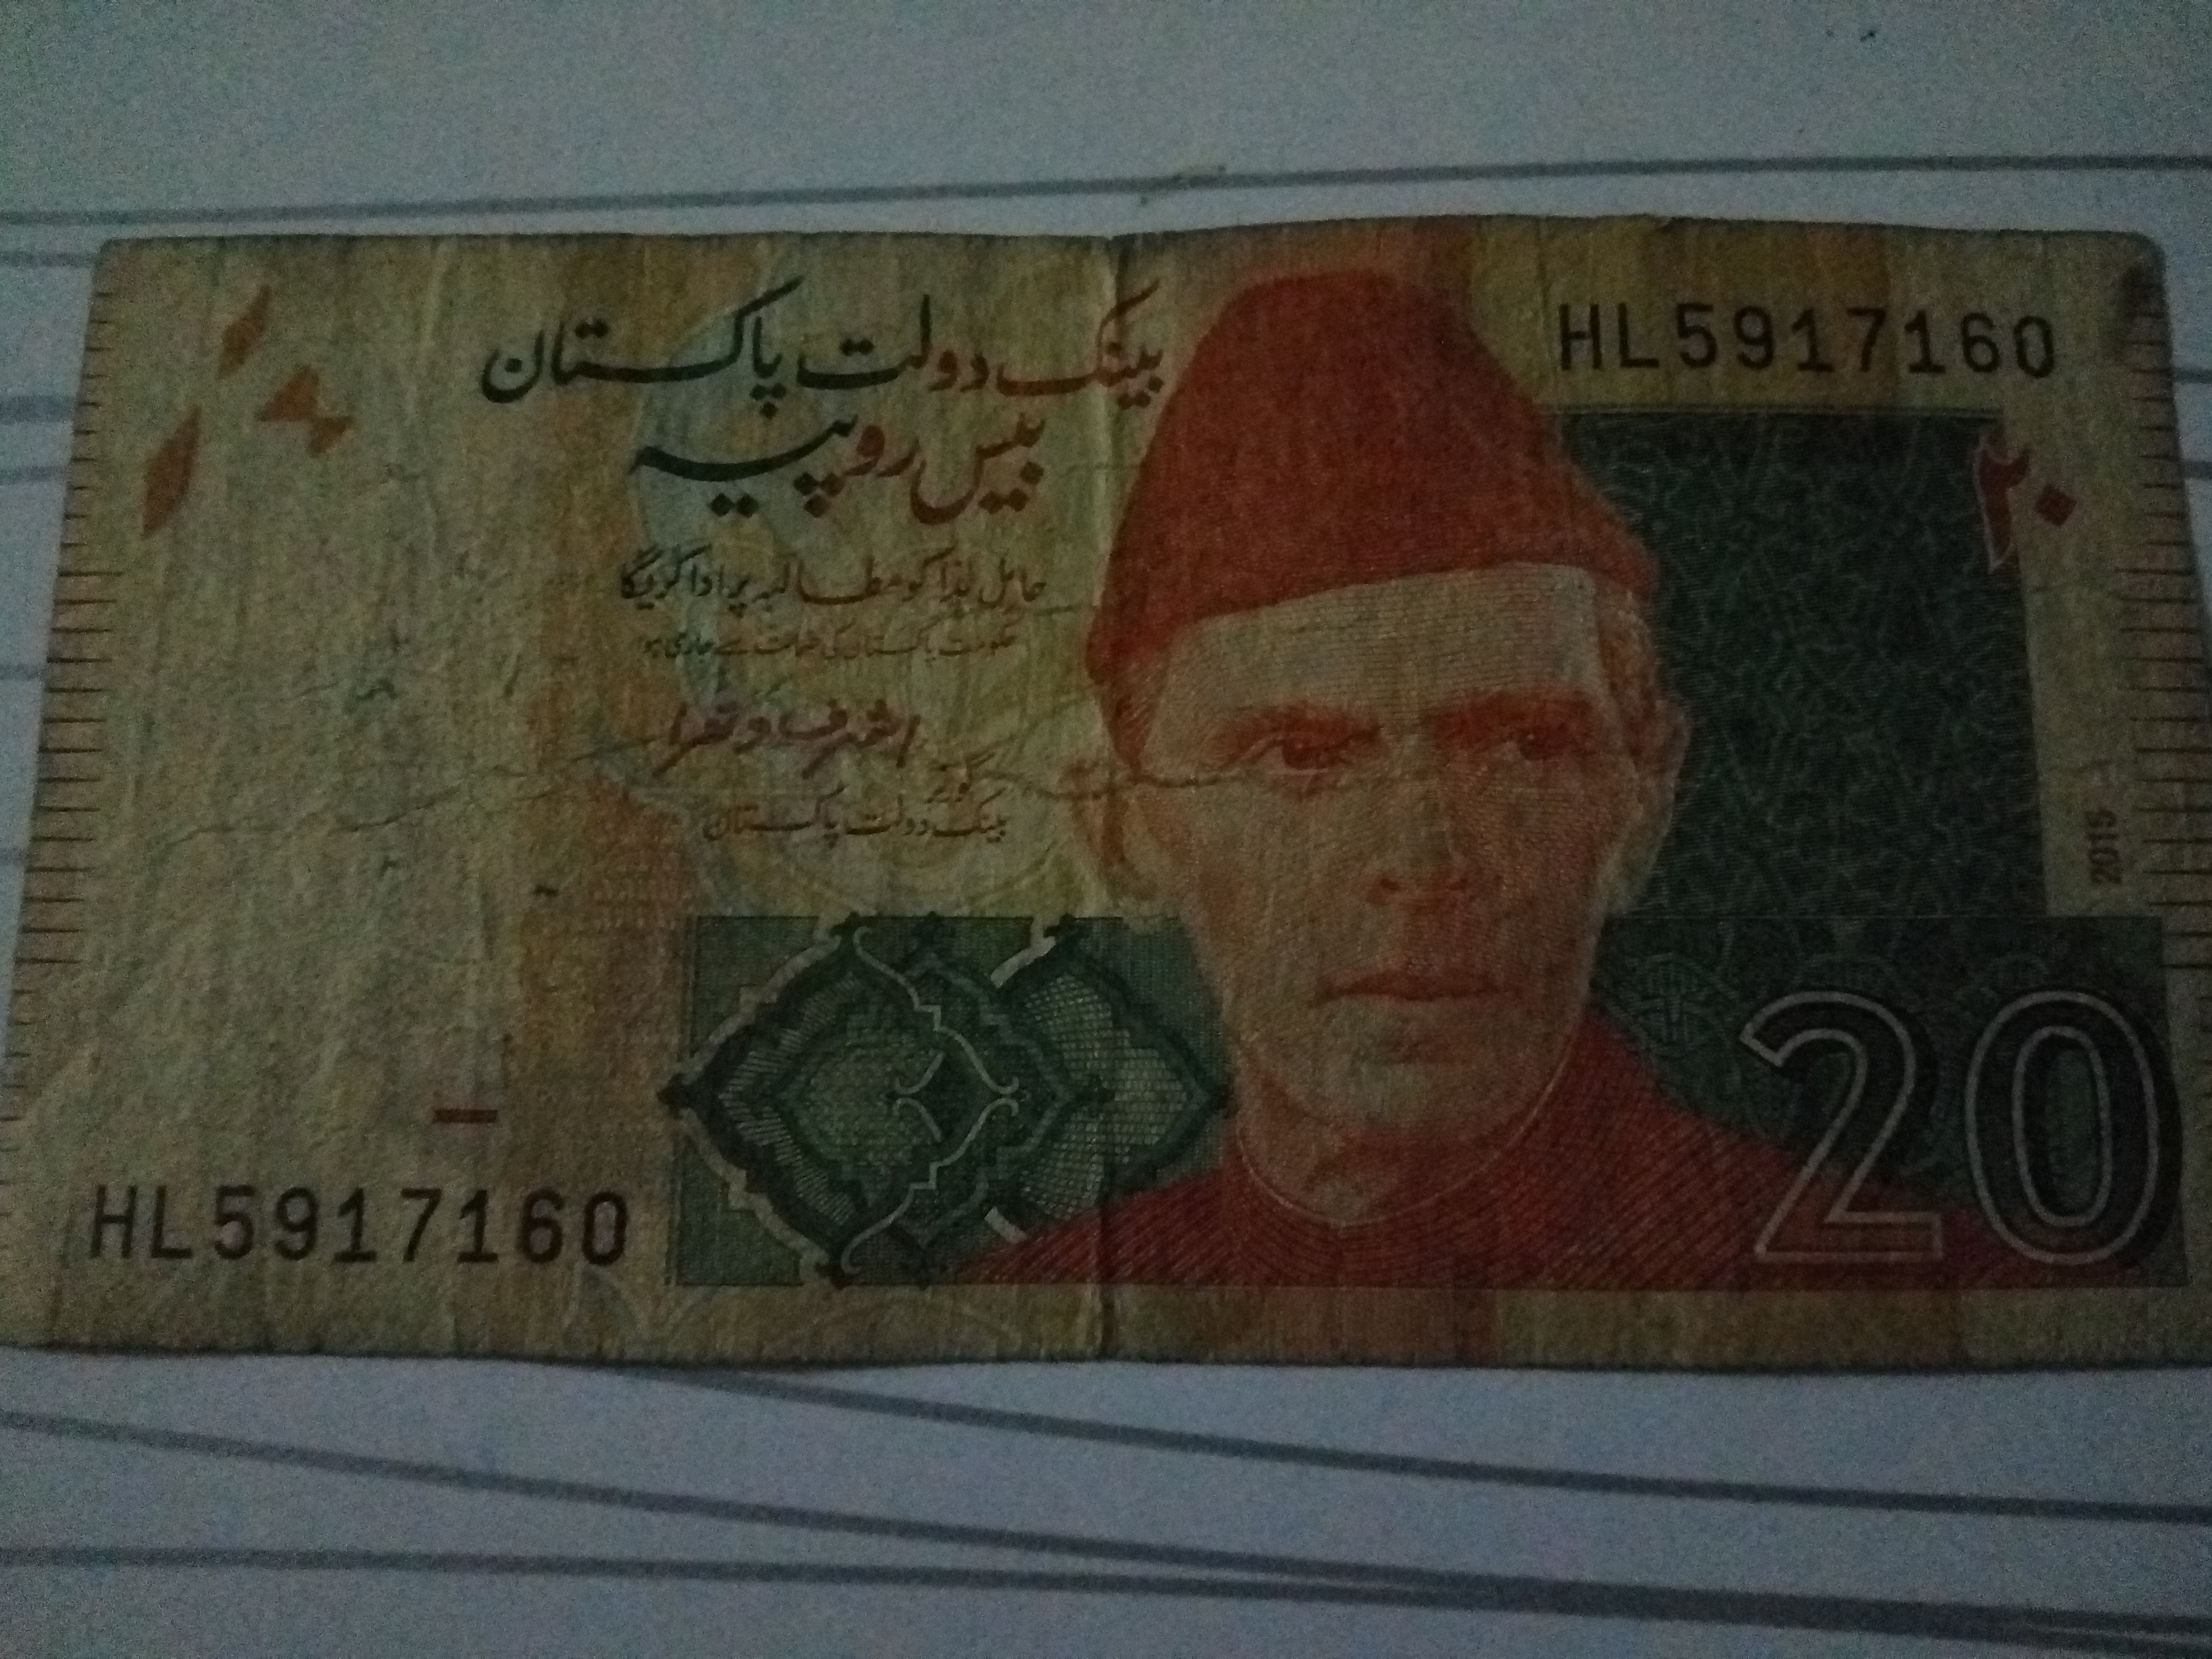20 rupee: (44, 190, 2182, 1429)
